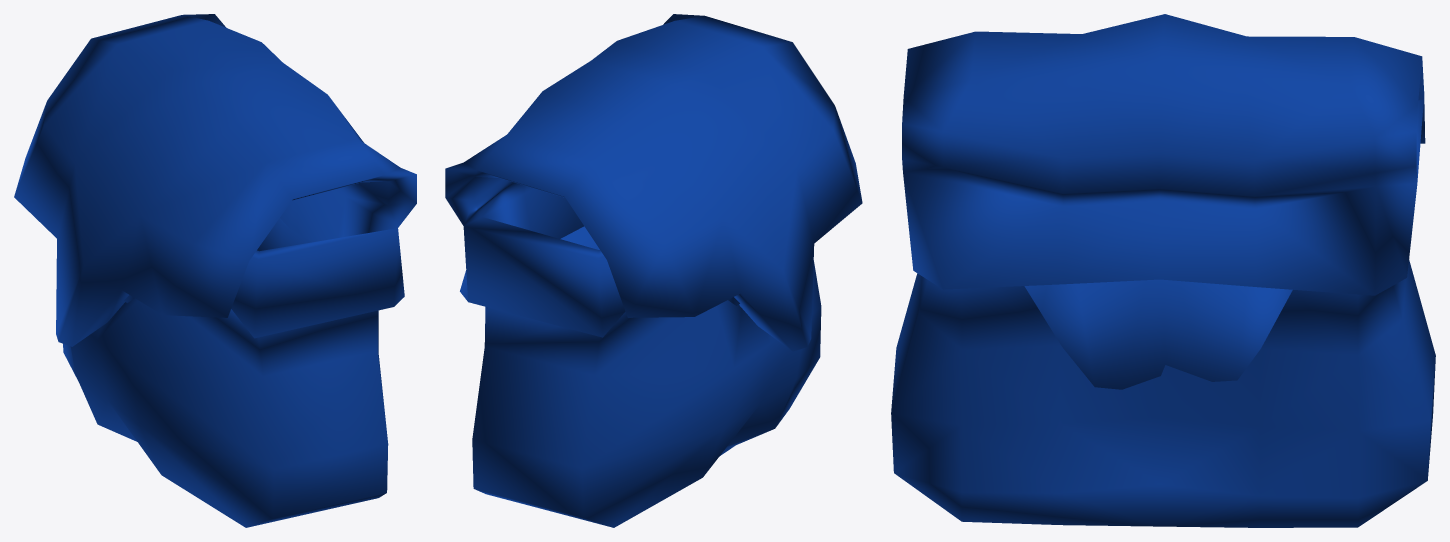
The model's file is ornament1.obj.
3 views of the same model, side by side, from view 1: azimuth 30°, elevation 25°; view 2: azimuth 150°, elevation 25°; view 3: azimuth 270°, elevation 25° (orthographic). The views are drawn at different scales.
Parts seen in each view (by area): view 1: Wizard_Plane.002; view 2: Wizard_Plane.002; view 3: Wizard_Plane.002.
Part boxes in pixels (x1,y1,x2,y2): Wizard_Plane.002: [14, 14, 416, 527]; Wizard_Plane.002: [445, 14, 862, 527]; Wizard_Plane.002: [891, 14, 1435, 527].
Size of the model in its own units: 0.1384 by 0.1881 by 0.2053.
